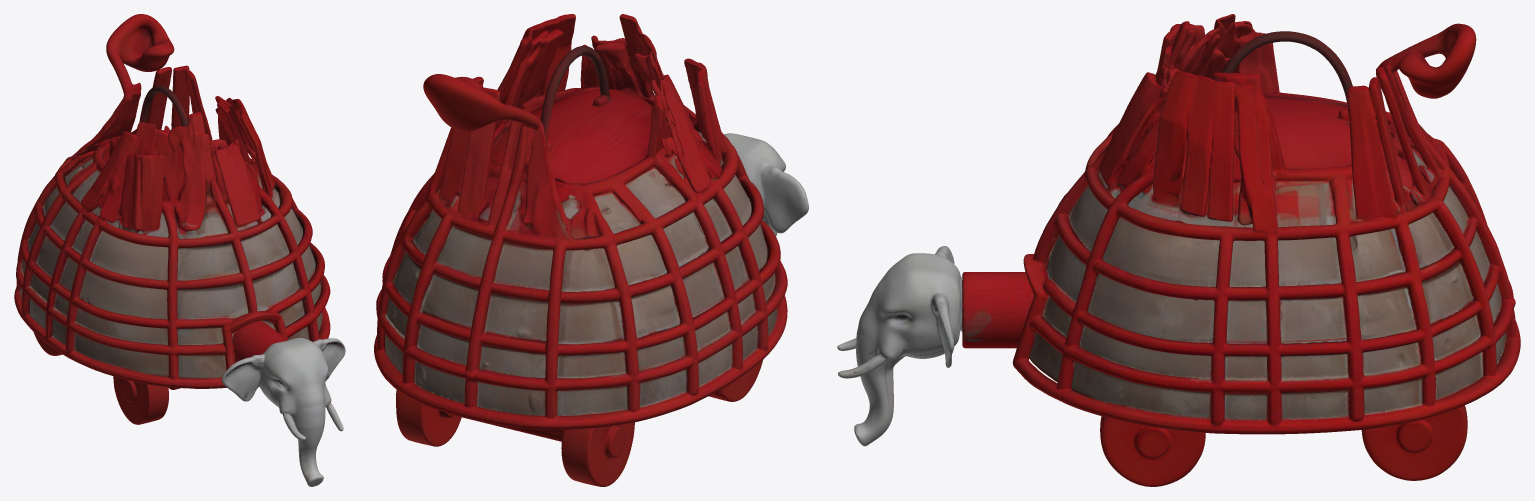
The picture shows the model from 3 angles, left to right: view 1: azimuth 30°, elevation 25°; view 2: azimuth 150°, elevation 25°; view 3: azimuth 270°, elevation 25°; orthographic projection. The views are drawn at different scales.
Visible parts, largest first — view 1: tripo_node_8fe1417e-796b-42b7-9329-09c0705d9336; view 2: tripo_node_8fe1417e-796b-42b7-9329-09c0705d9336; view 3: tripo_node_8fe1417e-796b-42b7-9329-09c0705d9336.
Boxes of the visible parts, x1,y1,x2,y2 form: tripo_node_8fe1417e-796b-42b7-9329-09c0705d9336: (14, 14, 345, 486); tripo_node_8fe1417e-796b-42b7-9329-09c0705d9336: (374, 14, 808, 486); tripo_node_8fe1417e-796b-42b7-9329-09c0705d9336: (837, 14, 1520, 486).
Size of the model in its own units: 0.6026 by 0.7105 by 1.
1 material, 1 textured.
